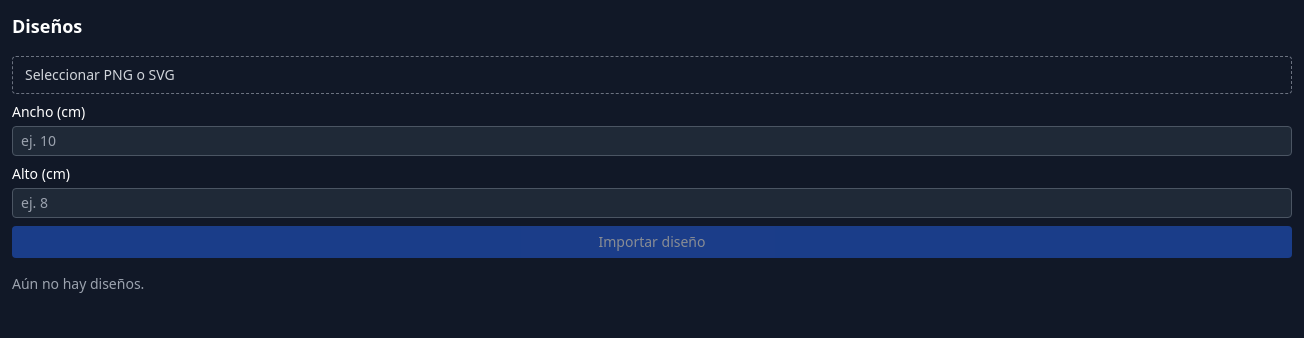
Test: DesignList import UI › shows a Spanish error message for invalid_format
Click the button "Seleccionar PNG o SVG". click: (100, 74)
box: x1=12 y1=56 x2=1292 y2=94
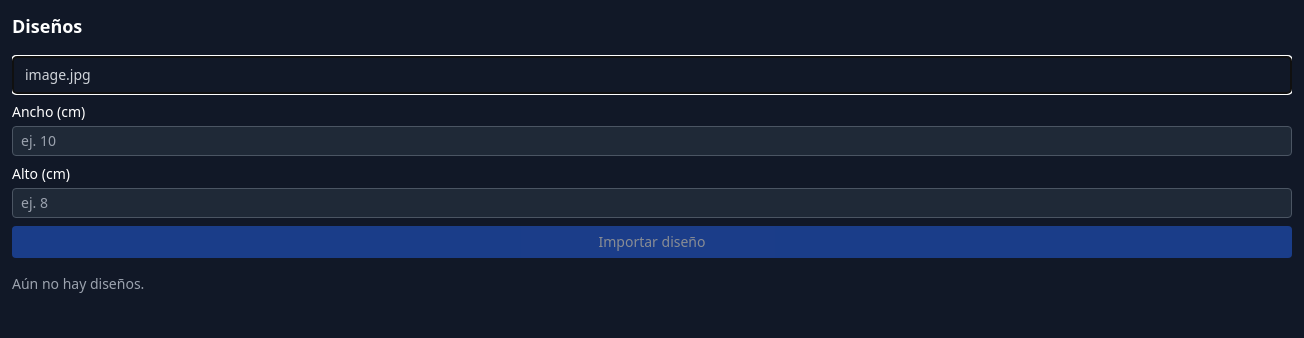
Type "10" into the number field labelled "Ancho (cm)". click: (652, 141)
box: x1=12 y1=126 x2=1292 y2=156
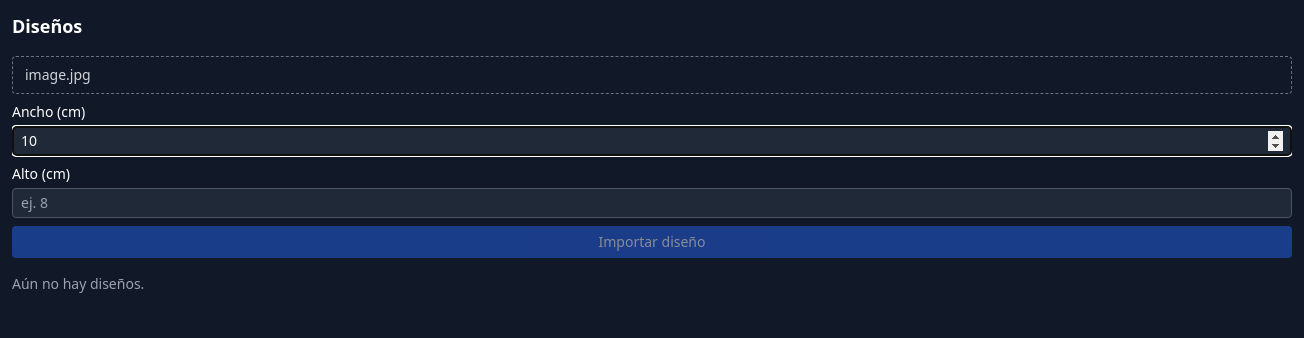
Type "8" into the number field labelled "Alto (cm)". click: (652, 203)
box: x1=12 y1=188 x2=1292 y2=218
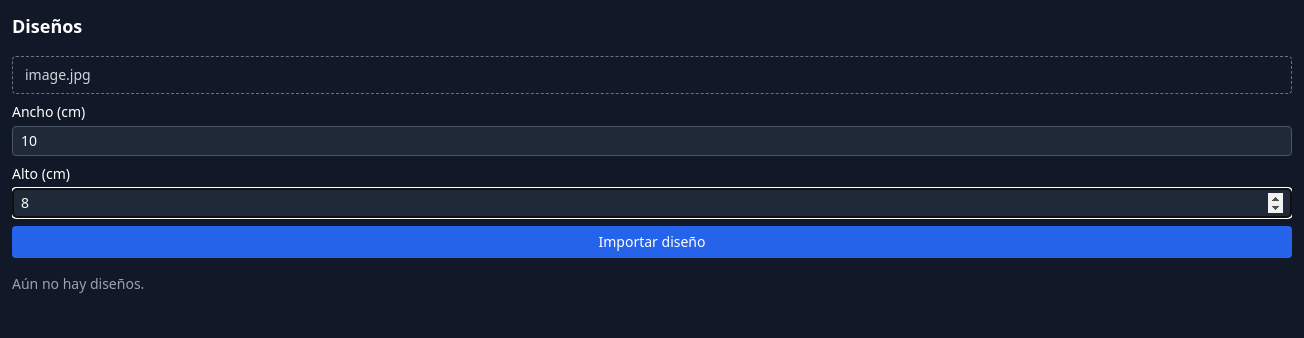
Click the button "Importar diseño". click: (652, 242)
box: x1=12 y1=226 x2=1292 y2=258
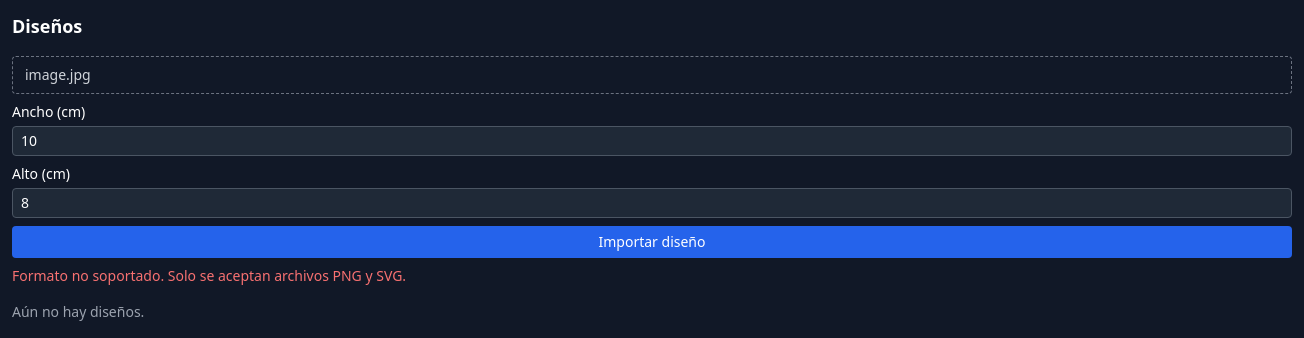
Result: the message reads "Formato no soportado. Solo se aceptan archivos PNG y SVG." at x1=12 y1=266 x2=406 y2=285
